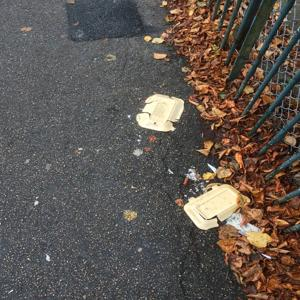cardboard: (181, 176, 241, 232), (131, 88, 191, 136)
plastic: (223, 212, 268, 244)
